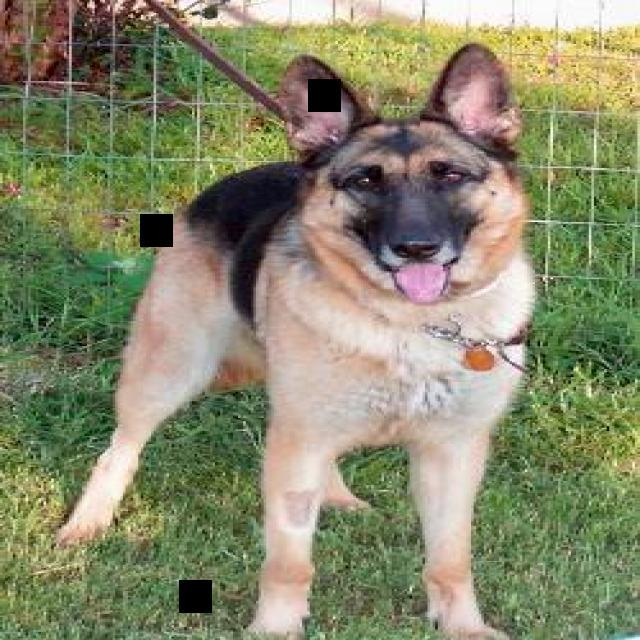adult_dog: (52, 40, 535, 640)
